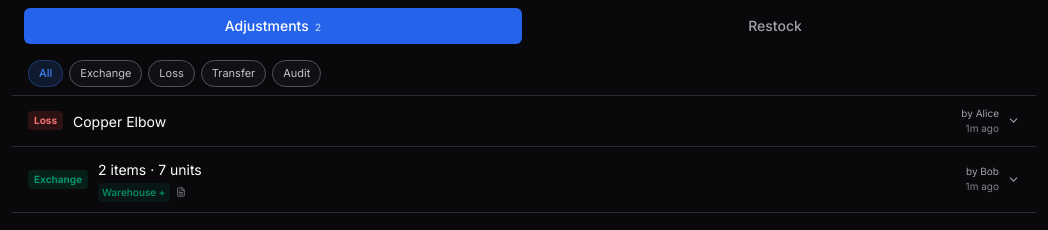
Test case: StockHistorySection › type filter chip hides non-matching adjustments
Click the button titled "Field Loss" at (172, 73), box [148,60,195,86]
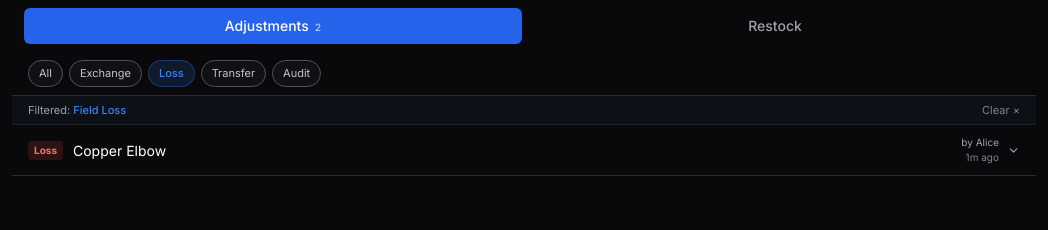
Expected: the text "Copper Elbow" is shown, [73,142,166,159]
Result: the button "2 items" is gone
